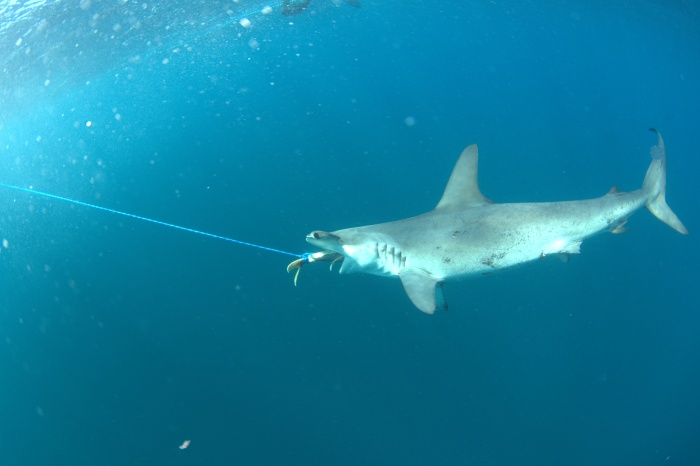Hammer: (253, 116, 700, 312)
